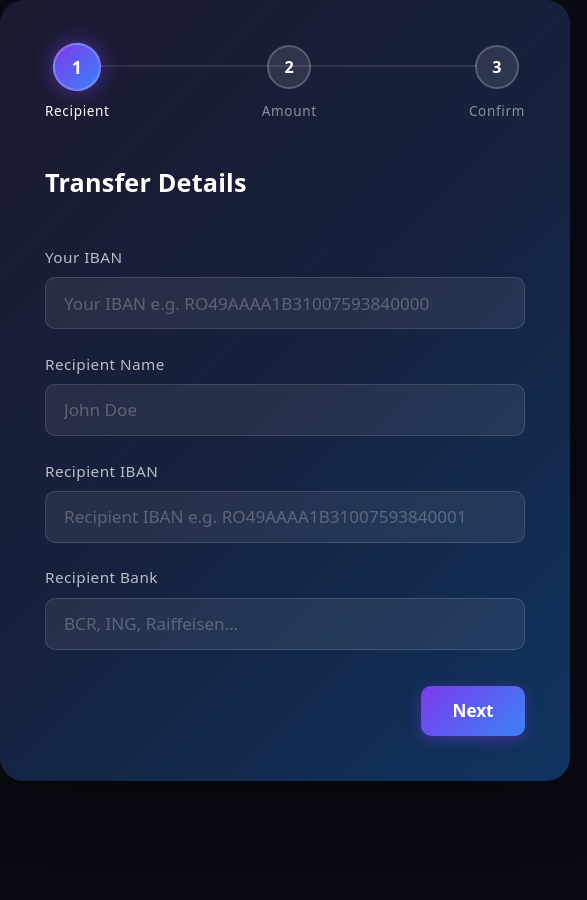
Test: TransferForm › Integration › shows validation errors if Next clicked with empty fields
The width and height of the screenshot is (587, 900).
Click the button "Next" at [473, 711], box [421,686,525,736]
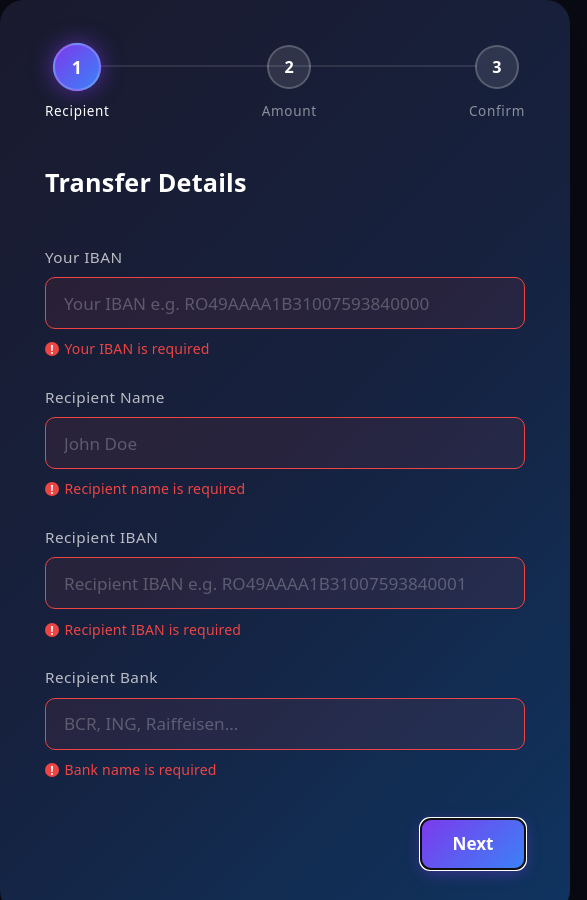
expect the text "Your IBAN is required" is shown: met, box [64,339,210,358]
expect the text "Recipient name is required" is shown: met, box [64,479,245,498]
expect the text "Recipient IBAN is required" is shown: met, box [64,620,241,639]
